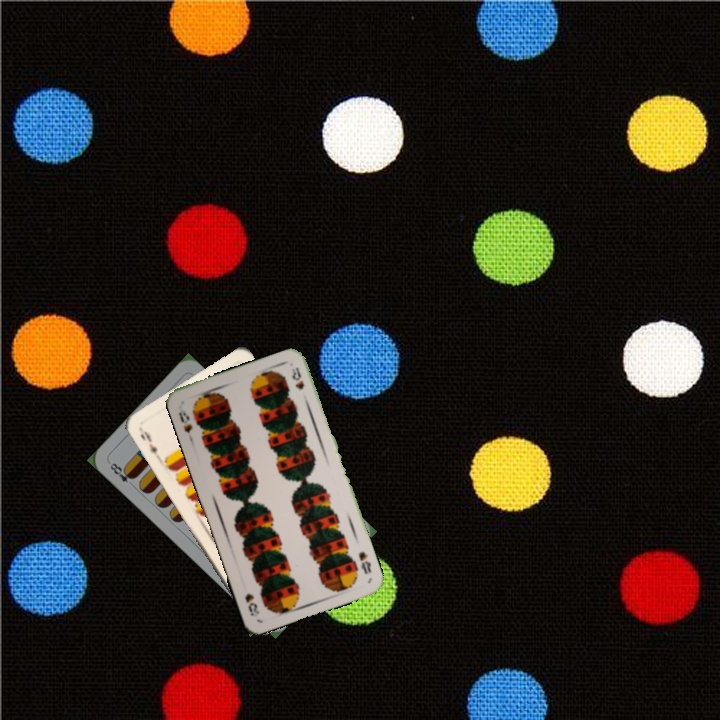E8: (105, 458, 137, 490)
E9: (136, 427, 163, 461)
S8: (174, 401, 195, 442), (354, 547, 374, 576)
